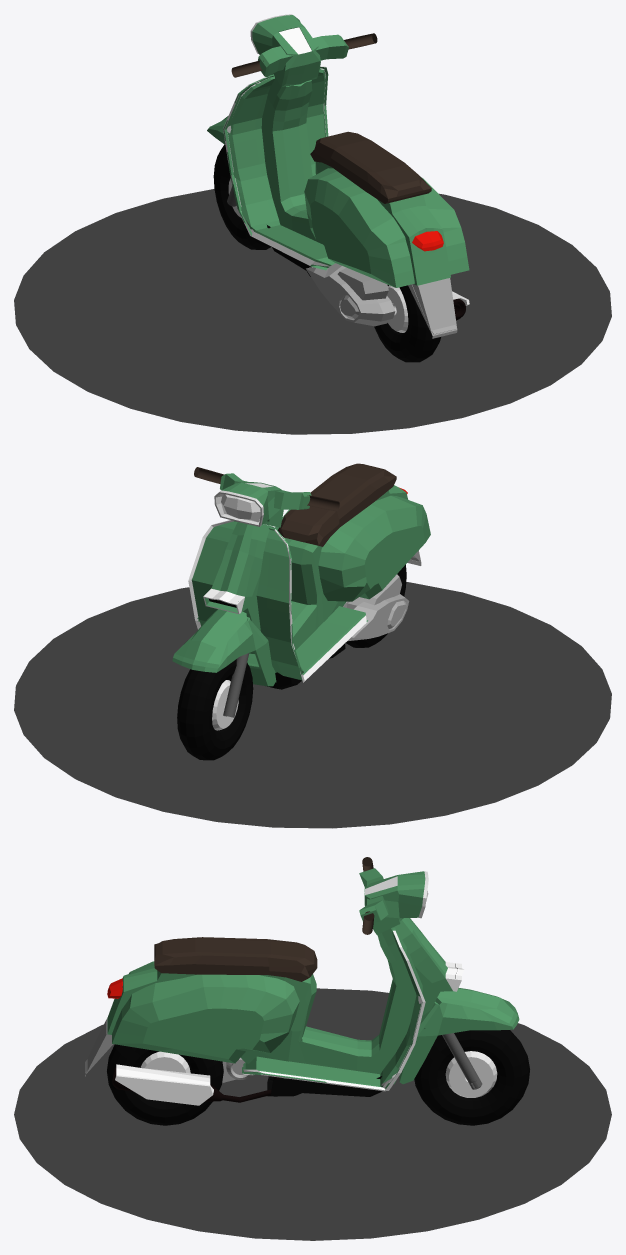
The model's file is low-poly_scooter.glb.
3 views of the same model, one above another, from view 1: azimuth 30°, elevation 25°; view 2: azimuth 150°, elevation 25°; view 3: azimuth 270°, elevation 25° (orthographic).
Parts seen in each view (by area): view 1: floor_0, Plane.002_22, Plane.001_21, Plane.005_25, Seat_16, Plane.003_13, Plane.004_23, Torus_26, Handlebar_20, Cube.001_18, Torus.001_11, Torus.003_27; view 2: floor_0, Plane.005_25, Plane.002_22, Plane.001_21, Torus.001_11, Seat_16, Plane.006_24, Plane.003_13, Plane.004_23, Handlebar_20, Cube.002_3, Cylinder_19 (+1 smaller); view 3: floor_0, Plane.002_22, Plane.001_21, Torus.001_11, Seat_16, Plane.006_24, Plane.005_25, Torus_26, Plane.008_10, Plane.004_23, Torus.002_12, Plane.007_14 (+5 smaller).
Boxes of the visible parts, x1,y1,x2,y2 form: floor_0: (14, 189, 611, 434); Plane.002_22: (304, 168, 469, 287); Plane.001_21: (261, 74, 450, 285); Plane.005_25: (223, 66, 335, 270); Seat_16: (310, 131, 431, 203); Plane.003_13: (306, 263, 395, 326); Plane.004_23: (250, 14, 320, 86); Torus_26: (374, 285, 440, 362); Handlebar_20: (231, 33, 377, 77); Cube.001_18: (408, 278, 457, 338); Torus.001_11: (213, 144, 271, 249); Torus.003_27: (387, 285, 408, 332); floor_0: (14, 582, 611, 828); Plane.005_25: (188, 520, 367, 682); Plane.002_22: (275, 495, 430, 601); Plane.001_21: (203, 485, 408, 682); Torus.001_11: (177, 659, 253, 760); Seat_16: (277, 463, 396, 546); Plane.006_24: (172, 609, 274, 686); Plane.003_13: (343, 574, 409, 640); Plane.004_23: (214, 482, 283, 527); Handlebar_20: (194, 467, 339, 511); Cube.002_3: (221, 494, 260, 522); Cylinder_19: (223, 653, 249, 717); floor_0: (14, 988, 611, 1240); Plane.002_22: (112, 961, 299, 1063); Plane.001_21: (107, 918, 463, 1084); Torus.001_11: (414, 1030, 529, 1125); Seat_16: (154, 937, 317, 981); Plane.006_24: (399, 988, 519, 1084); Plane.005_25: (242, 918, 425, 1091); Torus_26: (107, 1044, 223, 1125); Plane.008_10: (115, 1064, 213, 1105); Plane.004_23: (364, 871, 428, 934); Torus.002_12: (445, 1051, 497, 1097); Plane.007_14: (267, 1076, 381, 1096).
Bounding box in the file's own units: 3.33 × 1.51 × 3.33.
